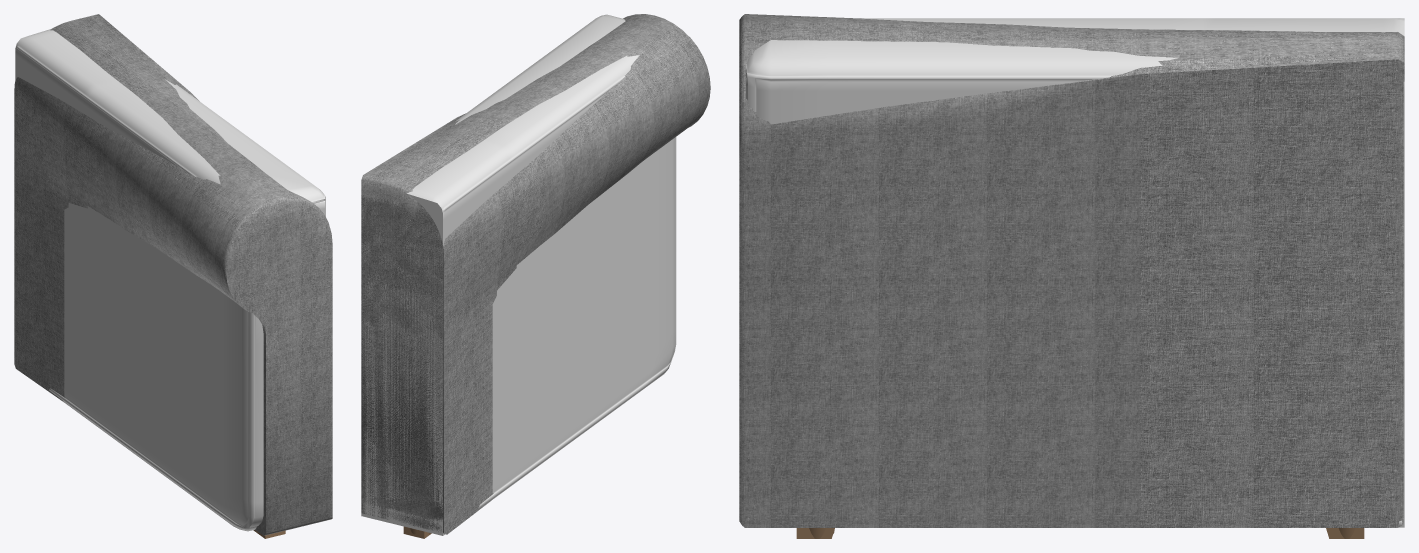
Rendered from armrestL.gltf.
3 views of the same model, side by side, from view 1: azimuth 30°, elevation 25°; view 2: azimuth 150°, elevation 25°; view 3: azimuth 270°, elevation 25° (orthographic). The views are drawn at different scales.
Parts seen in each view (by area): view 1: a2, a1; view 2: a2, a1; view 3: a2, a1.
Part boxes in pixels (x1=…): a2: x1=14, y1=14, x2=332, y2=538; a1: x1=15, y1=29, x2=325, y2=533; a2: x1=361, y1=14, x2=710, y2=538; a1: x1=361, y1=14, x2=676, y2=535; a2: x1=739, y1=14, x2=1404, y2=538; a1: x1=745, y1=18, x2=1404, y2=538.
Bounding box in the file's own units: 0.2032 × 0.6336 × 0.7656.
4 materials, 1 textured.
